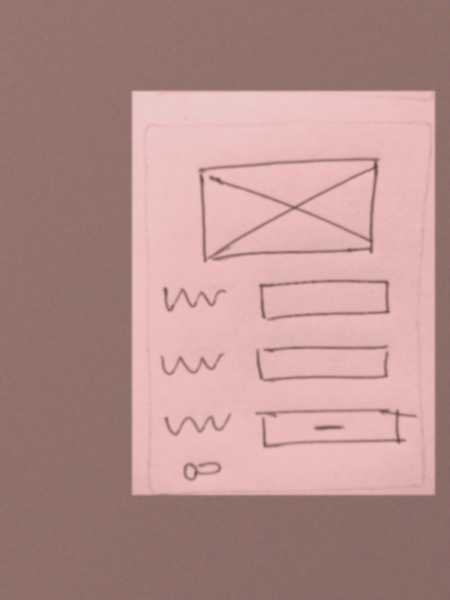button: (249, 403, 416, 453)
image: (191, 152, 387, 269)
switch: (170, 453, 227, 483)
text: (156, 407, 237, 445), (154, 340, 226, 379), (159, 276, 229, 315)
text_input: (247, 274, 396, 327), (247, 340, 395, 391)
